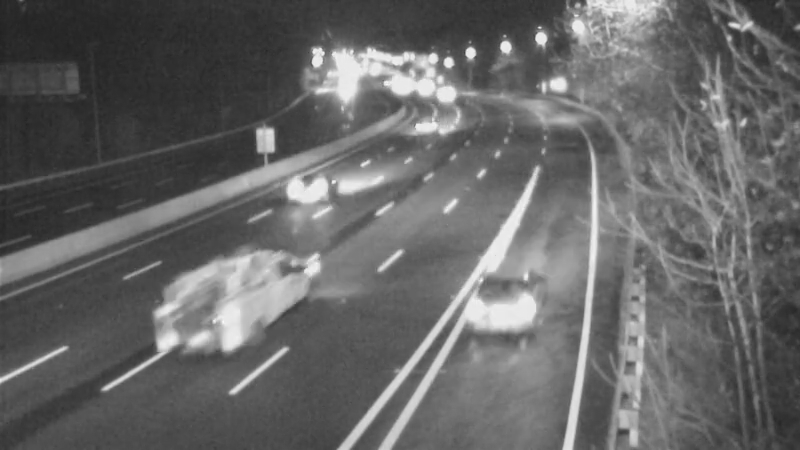vehicle: (132, 266, 242, 376), (443, 248, 553, 358), (270, 143, 350, 223), (424, 72, 474, 122), (399, 102, 449, 152)
